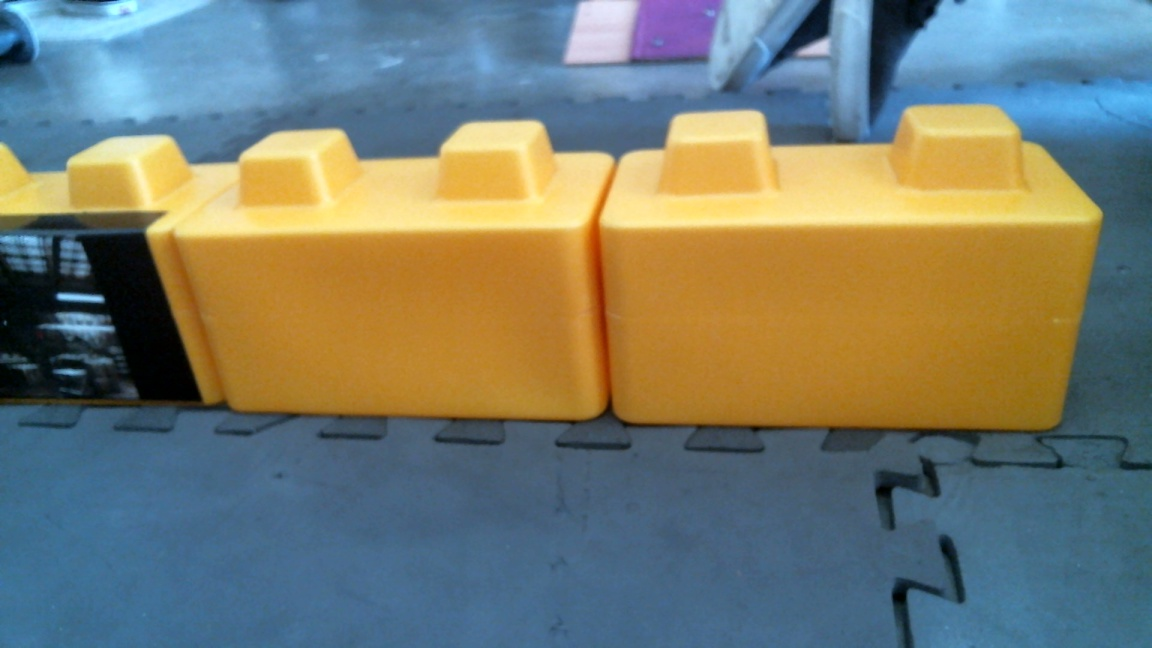left: (1, 129, 1092, 446)
